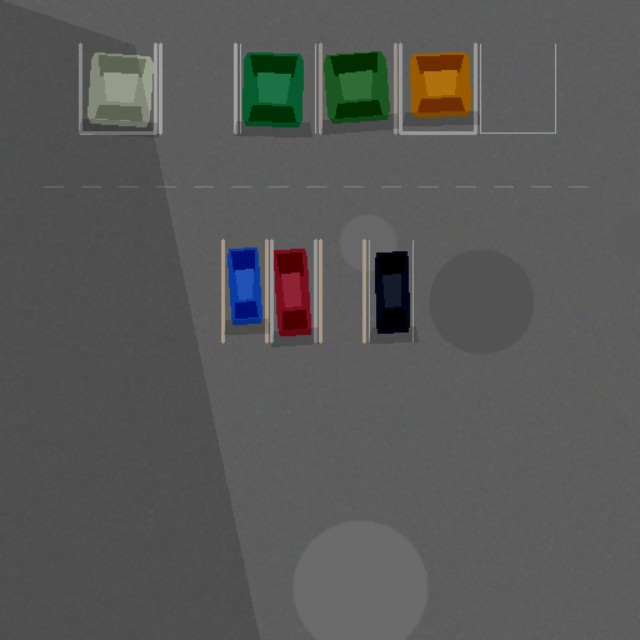space-empty: (160, 44, 235, 132), (480, 44, 555, 132), (320, 240, 364, 341)
space-occupied: (80, 44, 155, 132), (240, 44, 315, 132), (320, 44, 395, 132), (400, 44, 475, 132), (271, 240, 315, 341), (369, 240, 413, 341), (223, 240, 266, 341)
